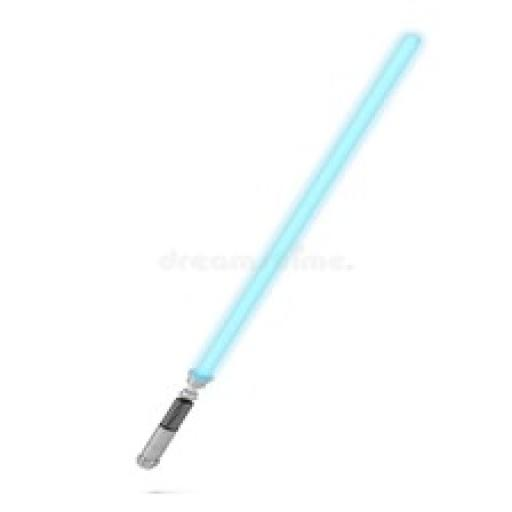lightsaber: (134, 31, 424, 472)
